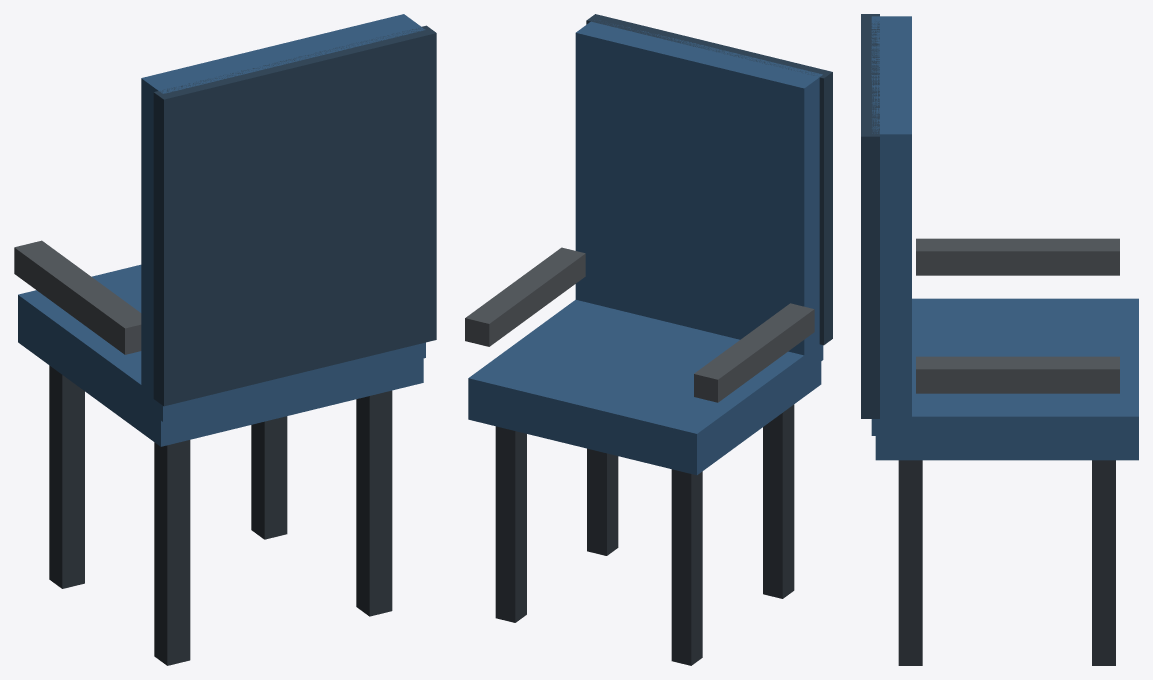
File: cadeira.obj
3 renders of one model, left to right at view 1: azimuth 30°, elevation 25°; view 2: azimuth 150°, elevation 25°; view 3: azimuth 270°, elevation 25°, orthographic. The views are drawn at different scales.
Parts seen in each view (by area): view 1: Cadeira__AroEncosto, Cadeira__Perna, Cadeira__Assento, Cadeira__Encosto, Cadeira__Braco; view 2: Cadeira__Encosto, Cadeira__Assento, Cadeira__Perna, Cadeira__Braco, Cadeira__AroEncosto; view 3: Cadeira__Assento, Cadeira__Braco, Cadeira__Encosto, Cadeira__Perna, Cadeira__AroEncosto.
Part boxes in pixels (x1=…): Cadeira__AroEncosto: x1=153, y1=25, x2=436, y2=406; Cadeira__Perna: x1=49, y1=365, x2=392, y2=665; Cadeira__Assento: x1=18, y1=264, x2=423, y2=446; Cadeira__Encosto: x1=141, y1=14, x2=425, y2=421; Cadeira__Braco: x1=14, y1=240, x2=141, y2=354; Cadeira__Encosto: x1=575, y1=20, x2=823, y2=367; Cadeira__Assento: x1=468, y1=299, x2=821, y2=475; Cadeira__Perna: x1=495, y1=404, x2=794, y2=665; Cadeira__Braco: x1=465, y1=247, x2=814, y2=402; Cadeira__AroEncosto: x1=586, y1=14, x2=832, y2=345; Cadeira__Assento: x1=875, y1=298, x2=1138, y2=460; Cadeira__Braco: x1=916, y1=238, x2=1119, y2=393; Cadeira__Encosto: x1=871, y1=16, x2=911, y2=435; Cadeira__Perna: x1=898, y1=460, x2=1115, y2=665; Cadeira__AroEncosto: x1=861, y1=14, x2=879, y2=418.
Bounding box in the file's own units: 0.575 × 1.11 × 0.5175.
